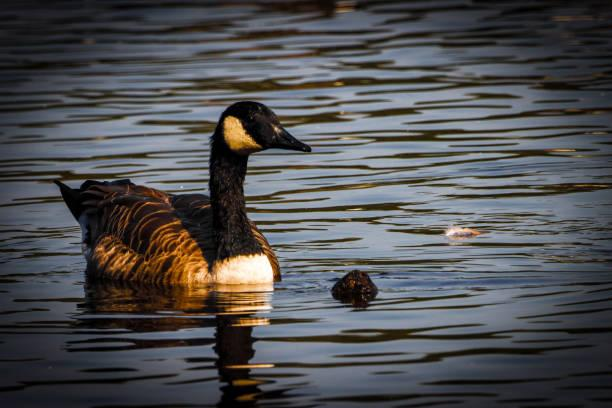Canadian-Goose: (54, 97, 317, 294)
